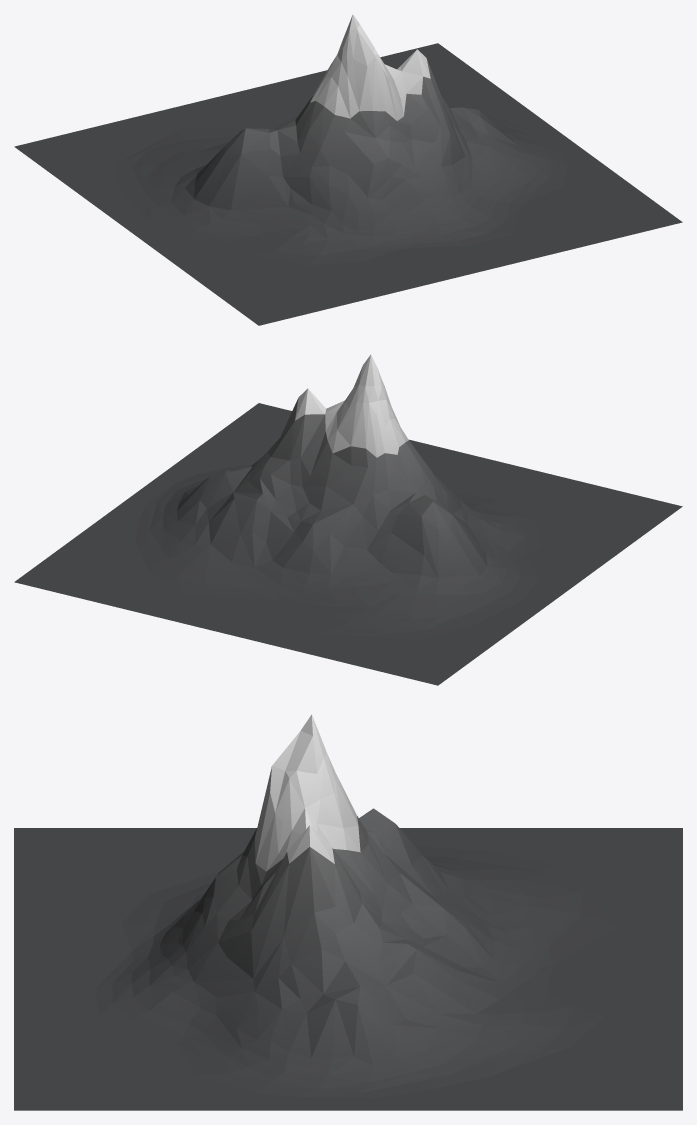
Rendered from Mountains_01.fbx.
3 renders of one model, top to bottom at view 1: azimuth 30°, elevation 25°; view 2: azimuth 150°, elevation 25°; view 3: azimuth 270°, elevation 25°, orthographic. The views are drawn at different scales.
Visible parts, largest first — view 1: Mountains_01; view 2: Mountains_01; view 3: Mountains_01.
Boxes of the visible parts, x1,y1,x2,y2 form: Mountains_01: (14, 14, 682, 325); Mountains_01: (14, 354, 682, 685); Mountains_01: (14, 714, 682, 1110).
Bounding box in the file's own units: 25600 × 10526 × 25600.
